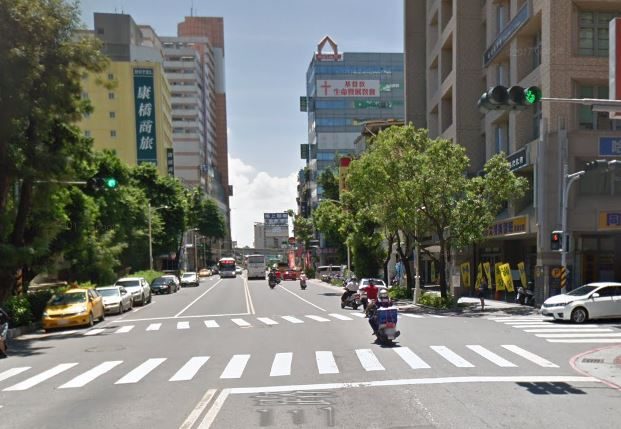Traffic_light_green: (477, 86, 543, 111), (85, 177, 119, 191)
car: (41, 281, 107, 331)
